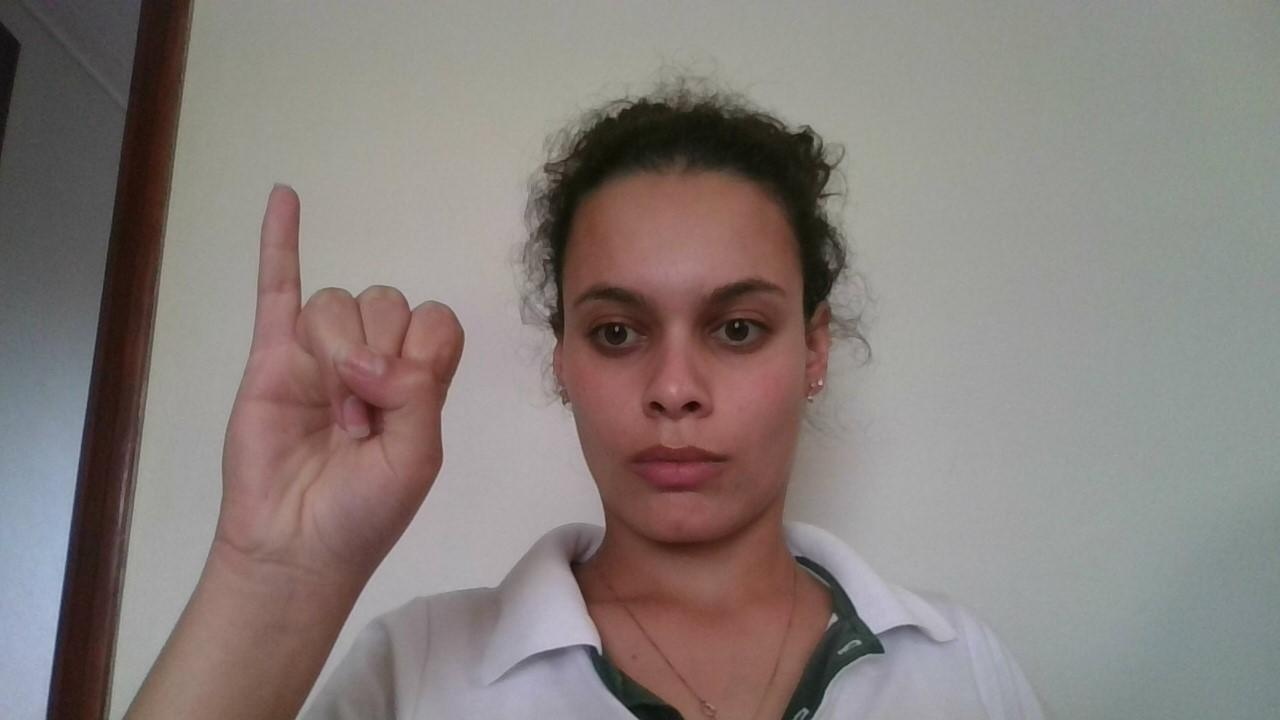I: (214, 178, 466, 564)
